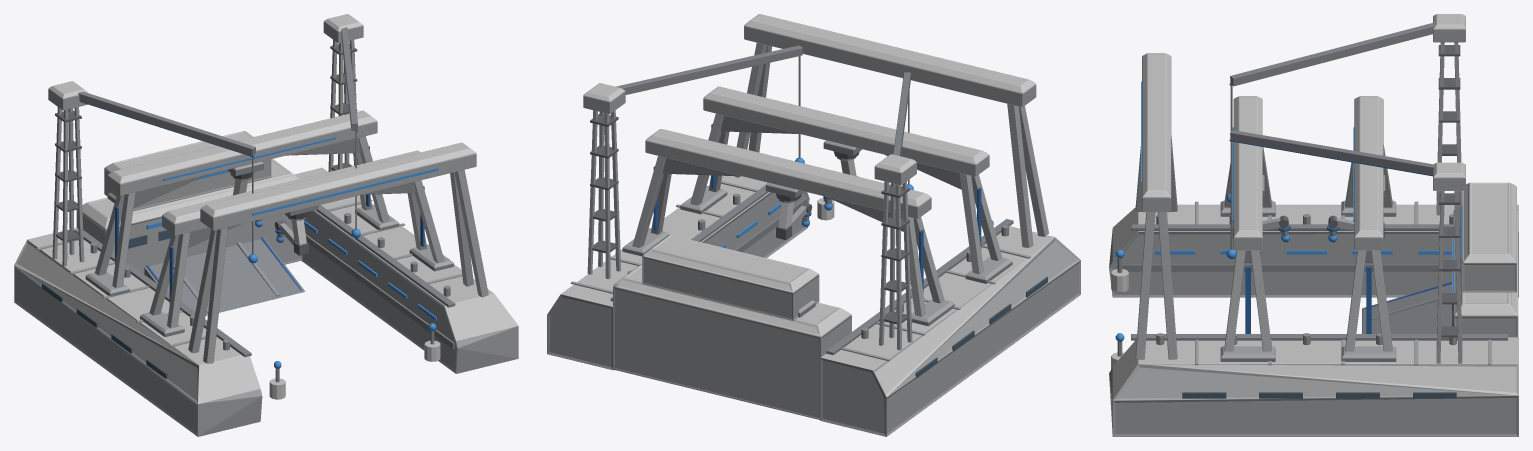
Rendered from lattice_adv_shipyard.glb.
3 renders of one model, left to right at view 1: azimuth 30°, elevation 25°; view 2: azimuth 150°, elevation 25°; view 3: azimuth 270°, elevation 25°, orthographic. The views are drawn at different scales.
Parts seen in each view (by area): view 1: Body; view 2: Body; view 3: Body.
Part boxes in pixels (x1,y1,x2,y2): Body: (14, 14, 518, 436); Body: (547, 14, 1080, 436); Body: (1109, 14, 1518, 436).
Size of the model in its own units: 22.46 by 15.5 by 22.39.
